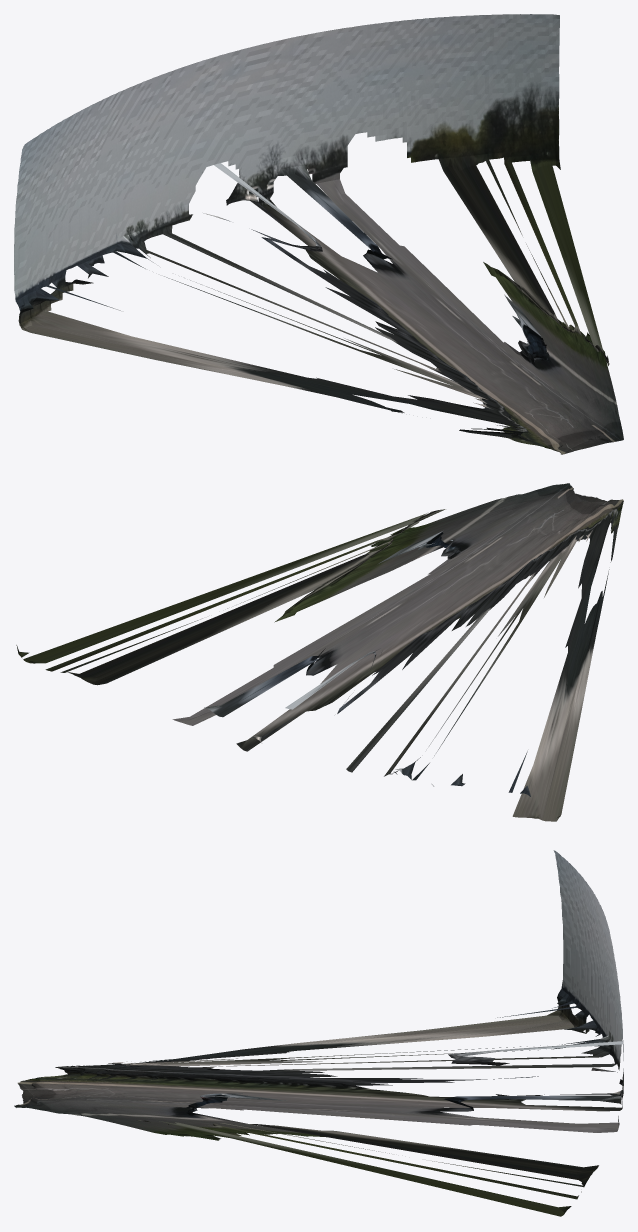
3 renders of one model, top to bottom at view 1: azimuth 30°, elevation 25°; view 2: azimuth 150°, elevation 25°; view 3: azimuth 270°, elevation 25°, orthographic. The views are drawn at different scales.
Visible parts, largest first — view 1: defaultobject; view 2: defaultobject; view 3: defaultobject.
Boxes of the visible parts, x1,y1,x2,y2 form: defaultobject: (14, 14, 623, 454); defaultobject: (16, 483, 623, 821); defaultobject: (14, 850, 623, 1216).
Size of the model in its own units: 41.16 by 14.27 by 44.92.
1 material, 1 textured.
